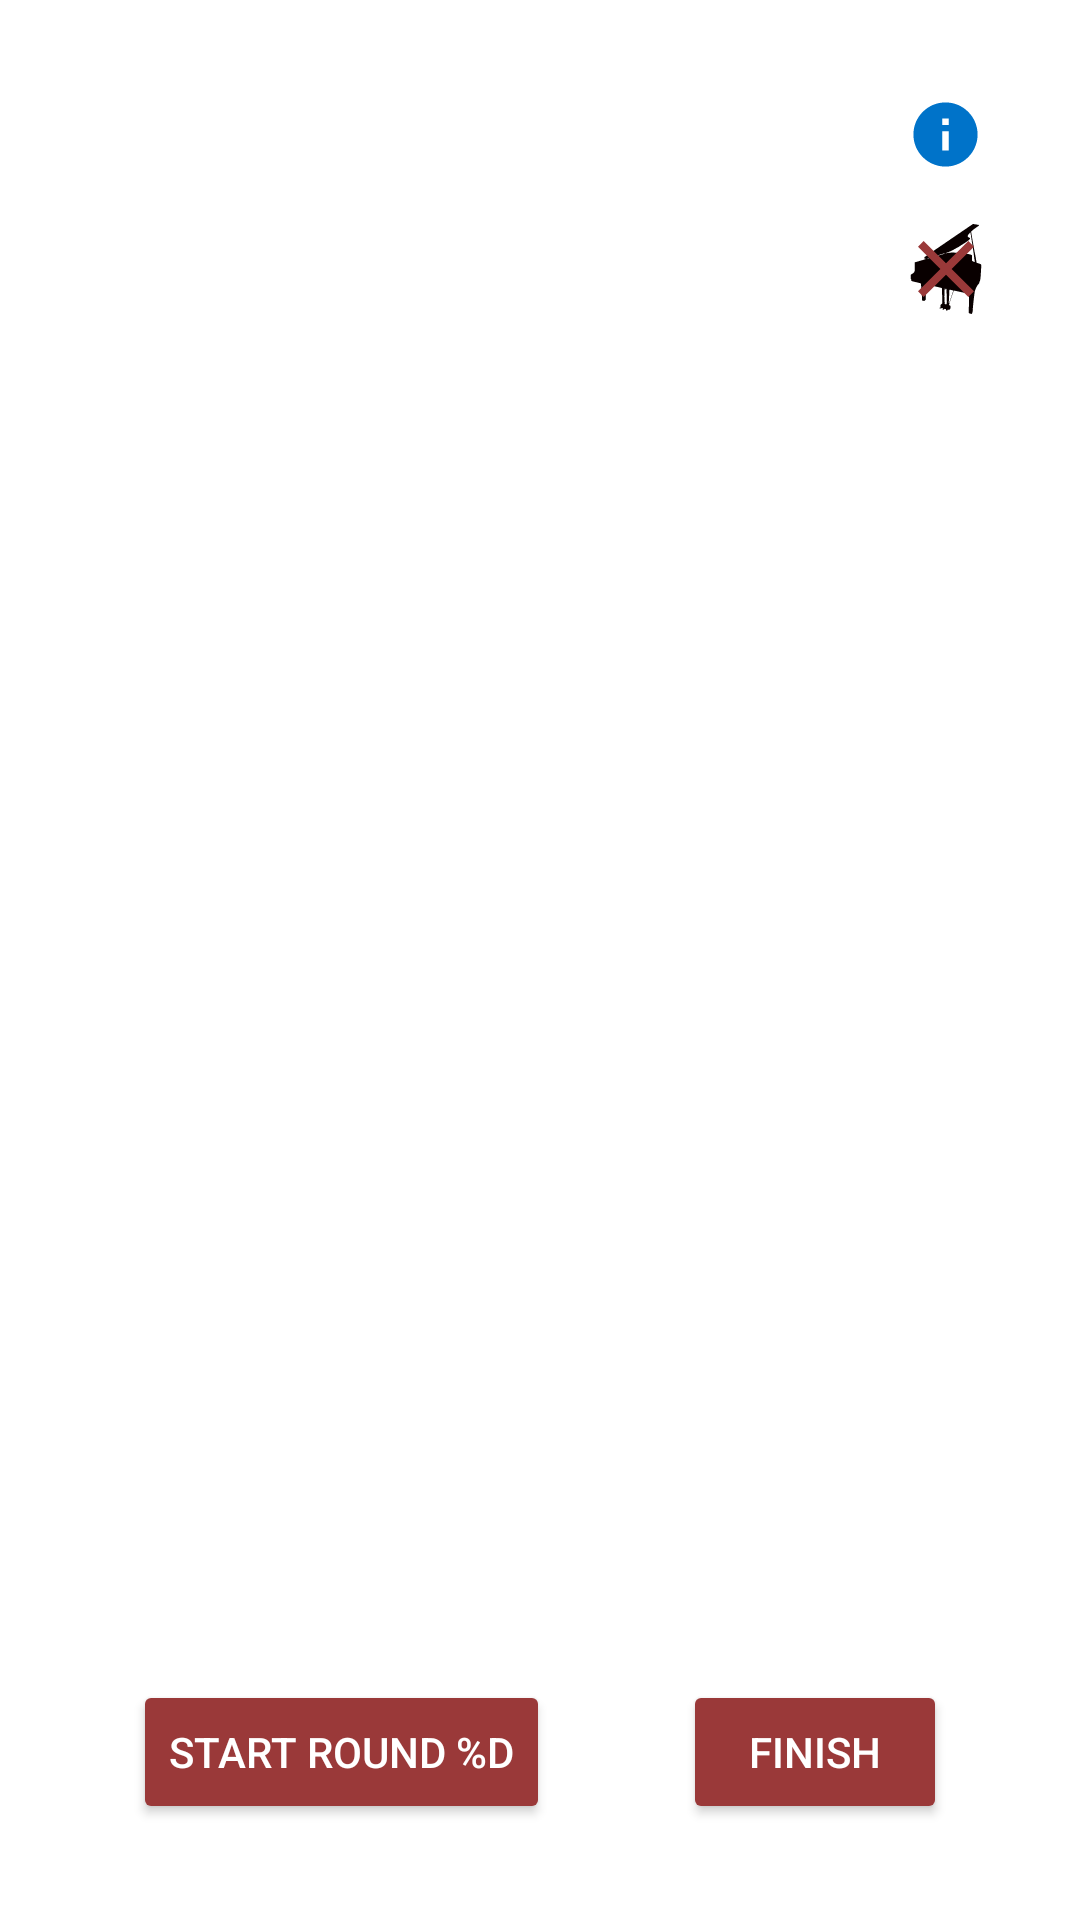

Icon bounding boxes for this 1080w x 1920h phone screenshot, format (x1, y1, x2, y2):
info: (913, 102, 978, 167)
